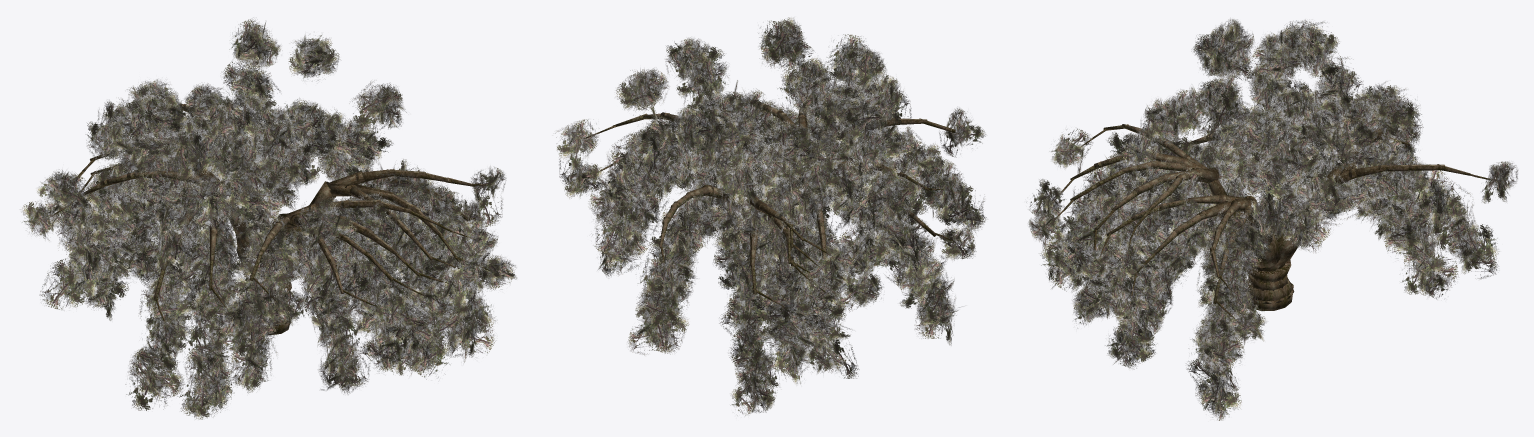
The model's file is blossom_4.glb.
3 views of the same model, side by side, from view 1: azimuth 30°, elevation 25°; view 2: azimuth 150°, elevation 25°; view 3: azimuth 270°, elevation 25° (orthographic). The views are drawn at different scales.
Parts seen in each view (by area): view 1: blossom; view 2: blossom; view 3: blossom.
Boxes of the visible parts, box(x1,y1,x2,y2) form: blossom: box(20, 17, 516, 419); blossom: box(553, 17, 986, 415); blossom: box(1026, 18, 1518, 420).
Bounding box in the file's own units: 28.7 × 21.15 × 32.26.
2 materials, 2 textured.
